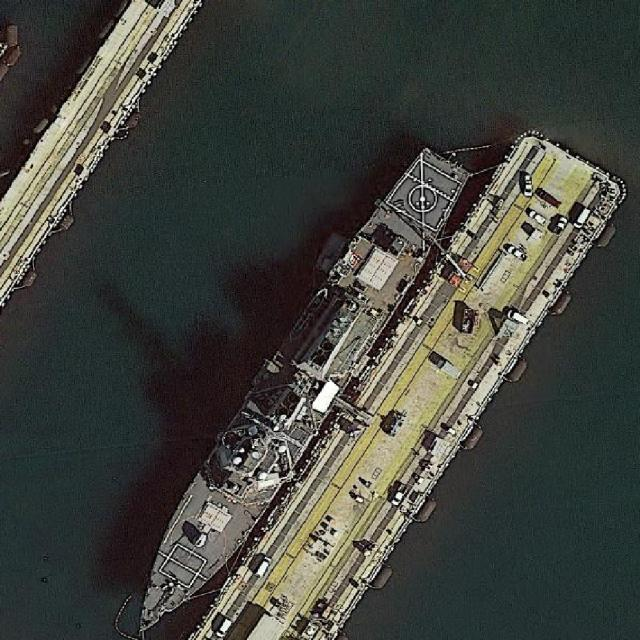Destroyer: (120, 139, 476, 636)
Dock: (246, 122, 626, 629)
